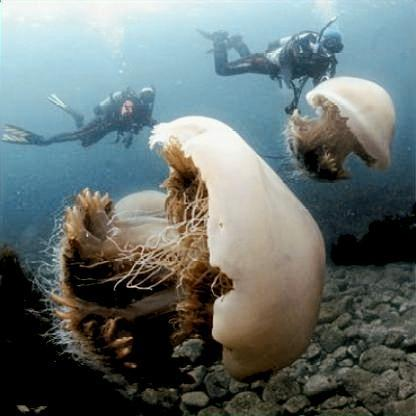GoldThorn: (149, 115, 325, 378), (47, 190, 215, 386), (282, 80, 398, 179)
